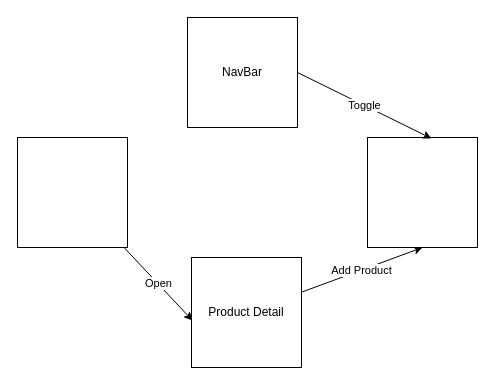
Some shapes in this 495 by 385 pixel diagram are drawn without their labels. Here are the shapes that lost their labels. From the top down, the centre of each, then its label:
At point (72, 192): "Product List".
At point (422, 192): "Basket".
